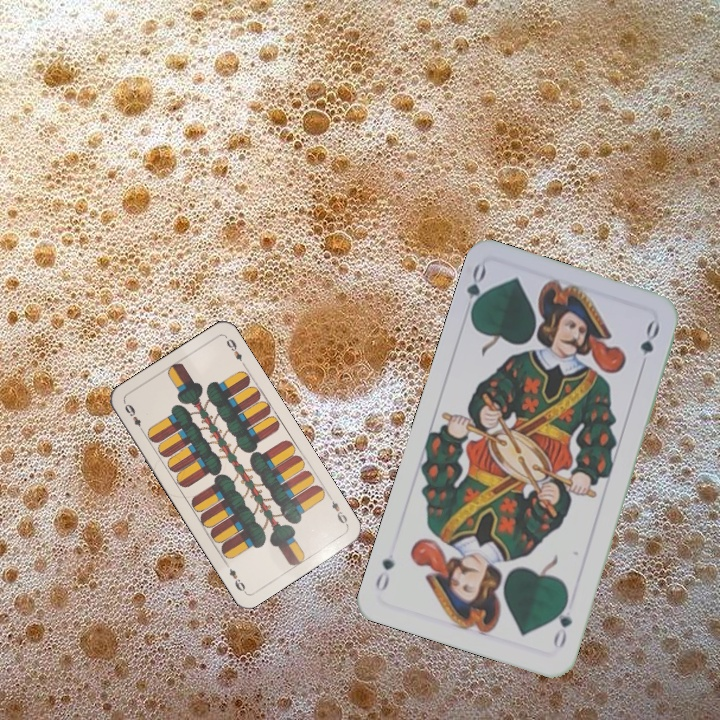E9: (120, 399, 147, 435), (325, 492, 351, 529)
GO: (462, 261, 491, 321), (549, 594, 575, 651)
